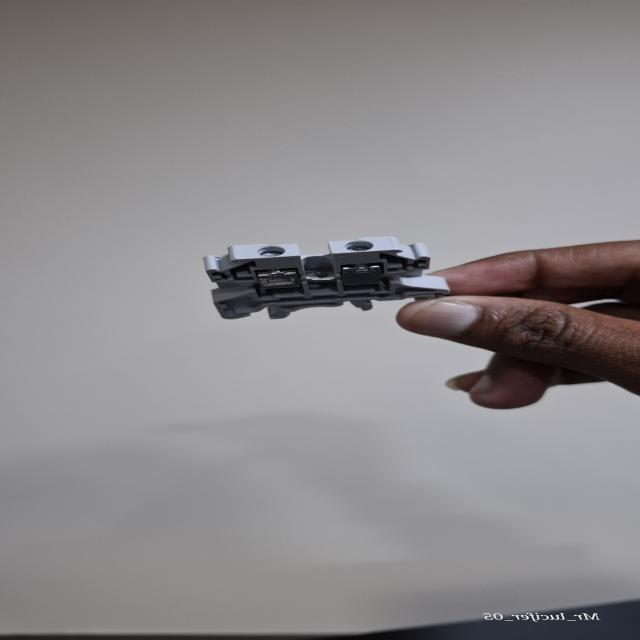Pass: (200, 234, 453, 322)
